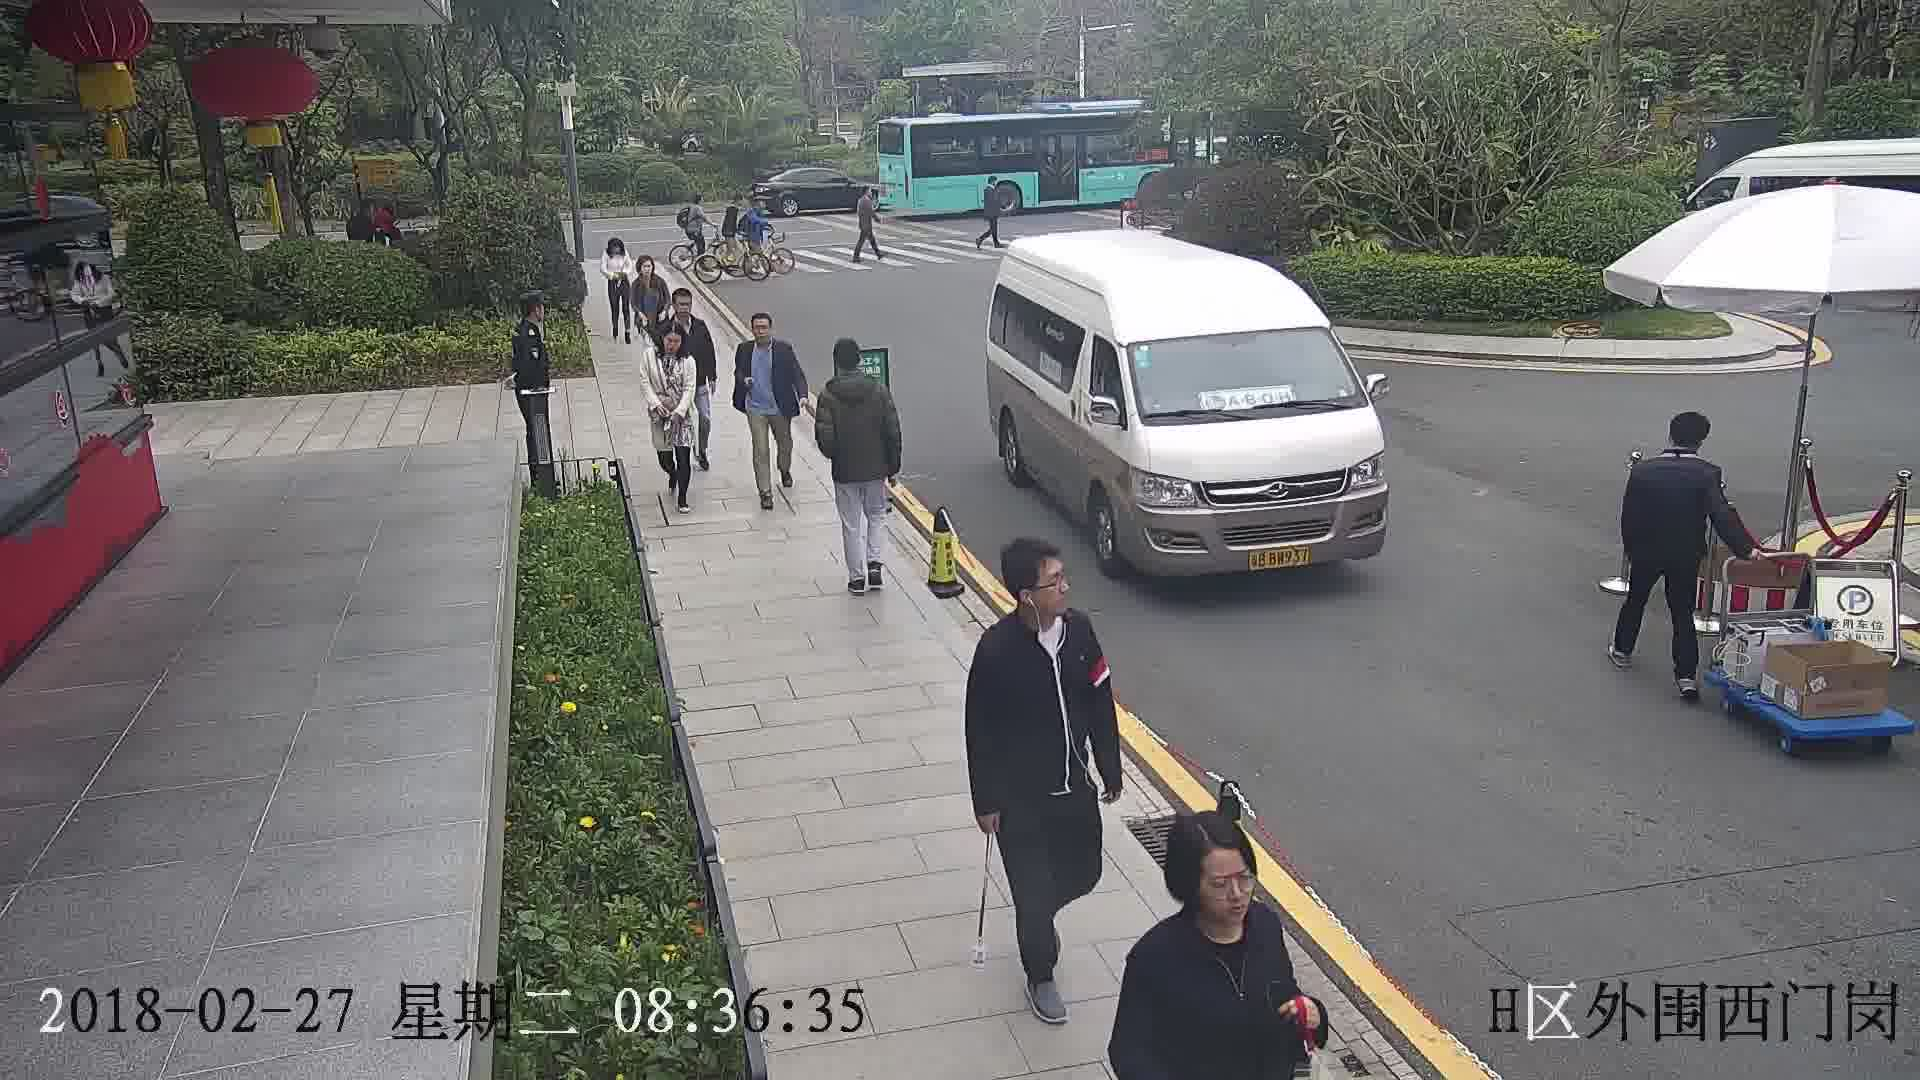face: (1187, 849, 1261, 923), (1021, 553, 1075, 618)
person: (1129, 818, 1282, 982), (969, 535, 1098, 676), (1625, 408, 1724, 493), (817, 336, 888, 407), (738, 310, 794, 359), (650, 322, 698, 369), (661, 284, 706, 329), (511, 293, 551, 341), (635, 255, 667, 288), (602, 235, 630, 266), (986, 171, 1003, 199), (749, 199, 769, 222), (725, 195, 743, 220), (854, 186, 875, 206), (688, 192, 708, 213)
